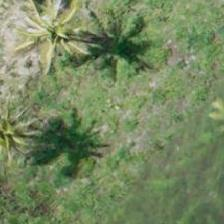coconut_tree: (12, 0, 102, 77), (0, 87, 55, 177)
